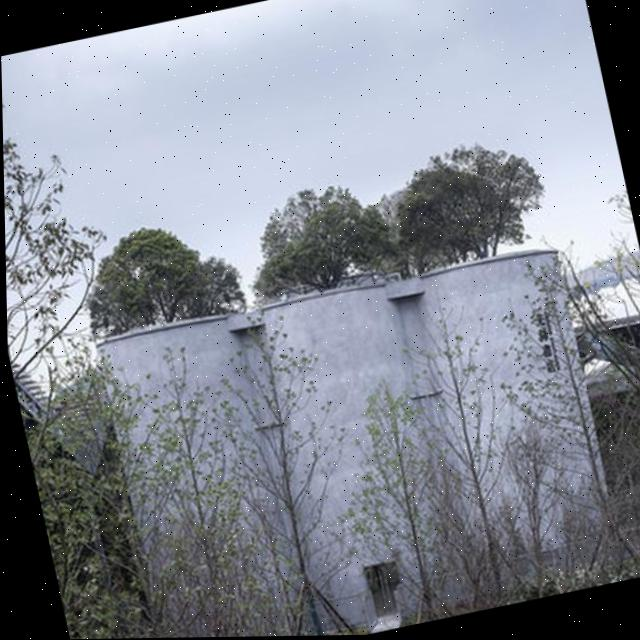building: (84, 218, 632, 639)
